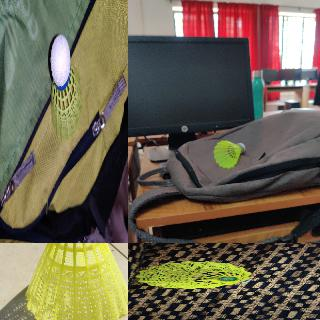shuttlecock: (26, 243, 127, 319), (50, 35, 82, 143), (135, 261, 251, 289), (212, 140, 245, 167)
